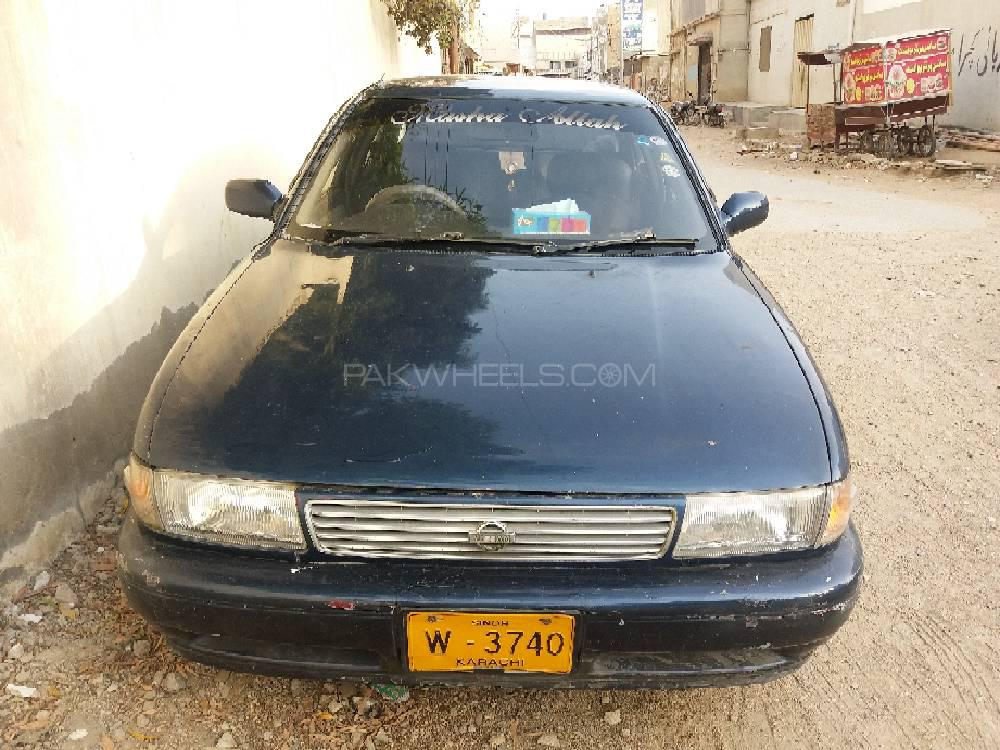license plate: (404, 611, 577, 676)
